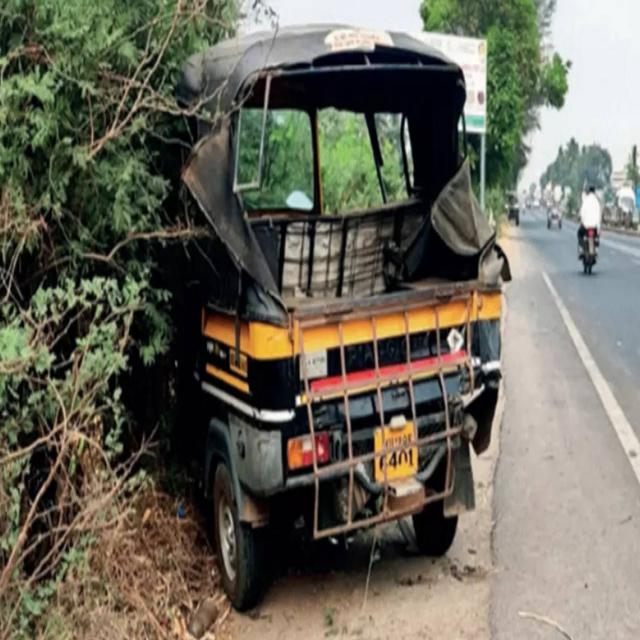accident: (179, 22, 510, 606)
